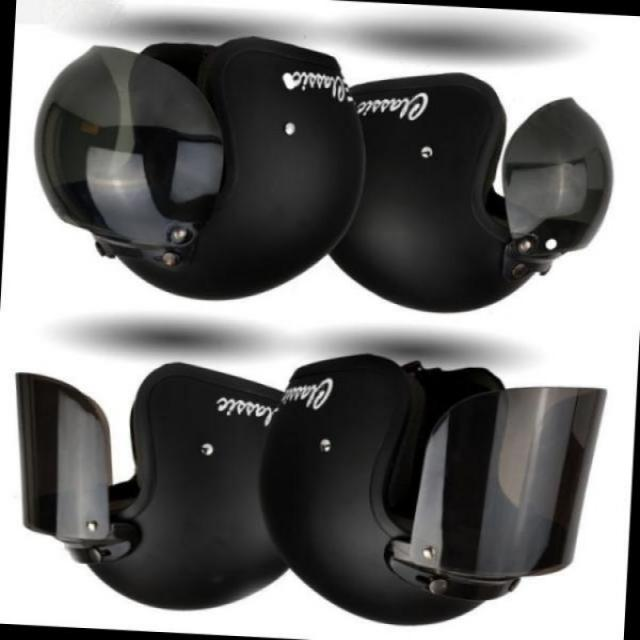Helmet: (262, 329, 588, 626), (42, 36, 376, 282), (339, 19, 604, 318), (12, 353, 286, 604)
